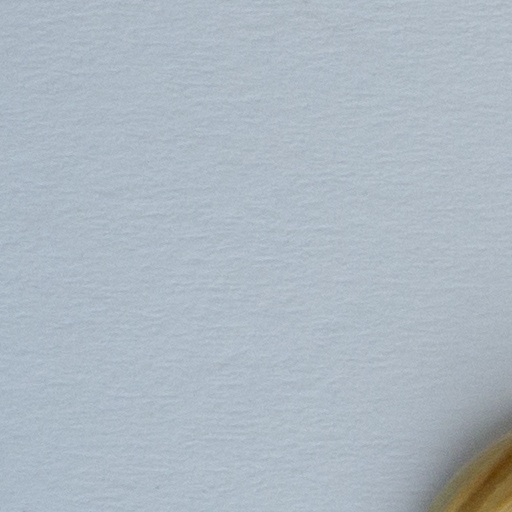Peel-poly: (426, 431, 511, 511)
